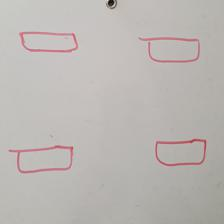halfround-rectangle: (9, 146, 73, 173), (140, 37, 200, 62), (154, 139, 206, 166), (20, 32, 78, 53)
